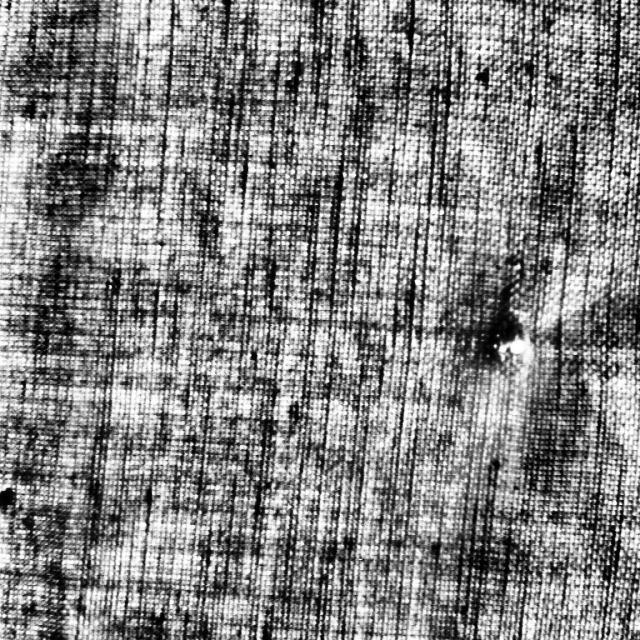cut: (484, 317, 528, 365)
